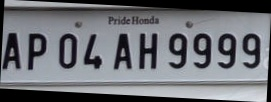character: (2, 32, 22, 70), (27, 32, 47, 70), (138, 31, 158, 69), (113, 33, 133, 69), (216, 33, 236, 68), (192, 32, 211, 68), (242, 32, 261, 68), (58, 33, 77, 68), (83, 33, 102, 68), (168, 33, 187, 68)
